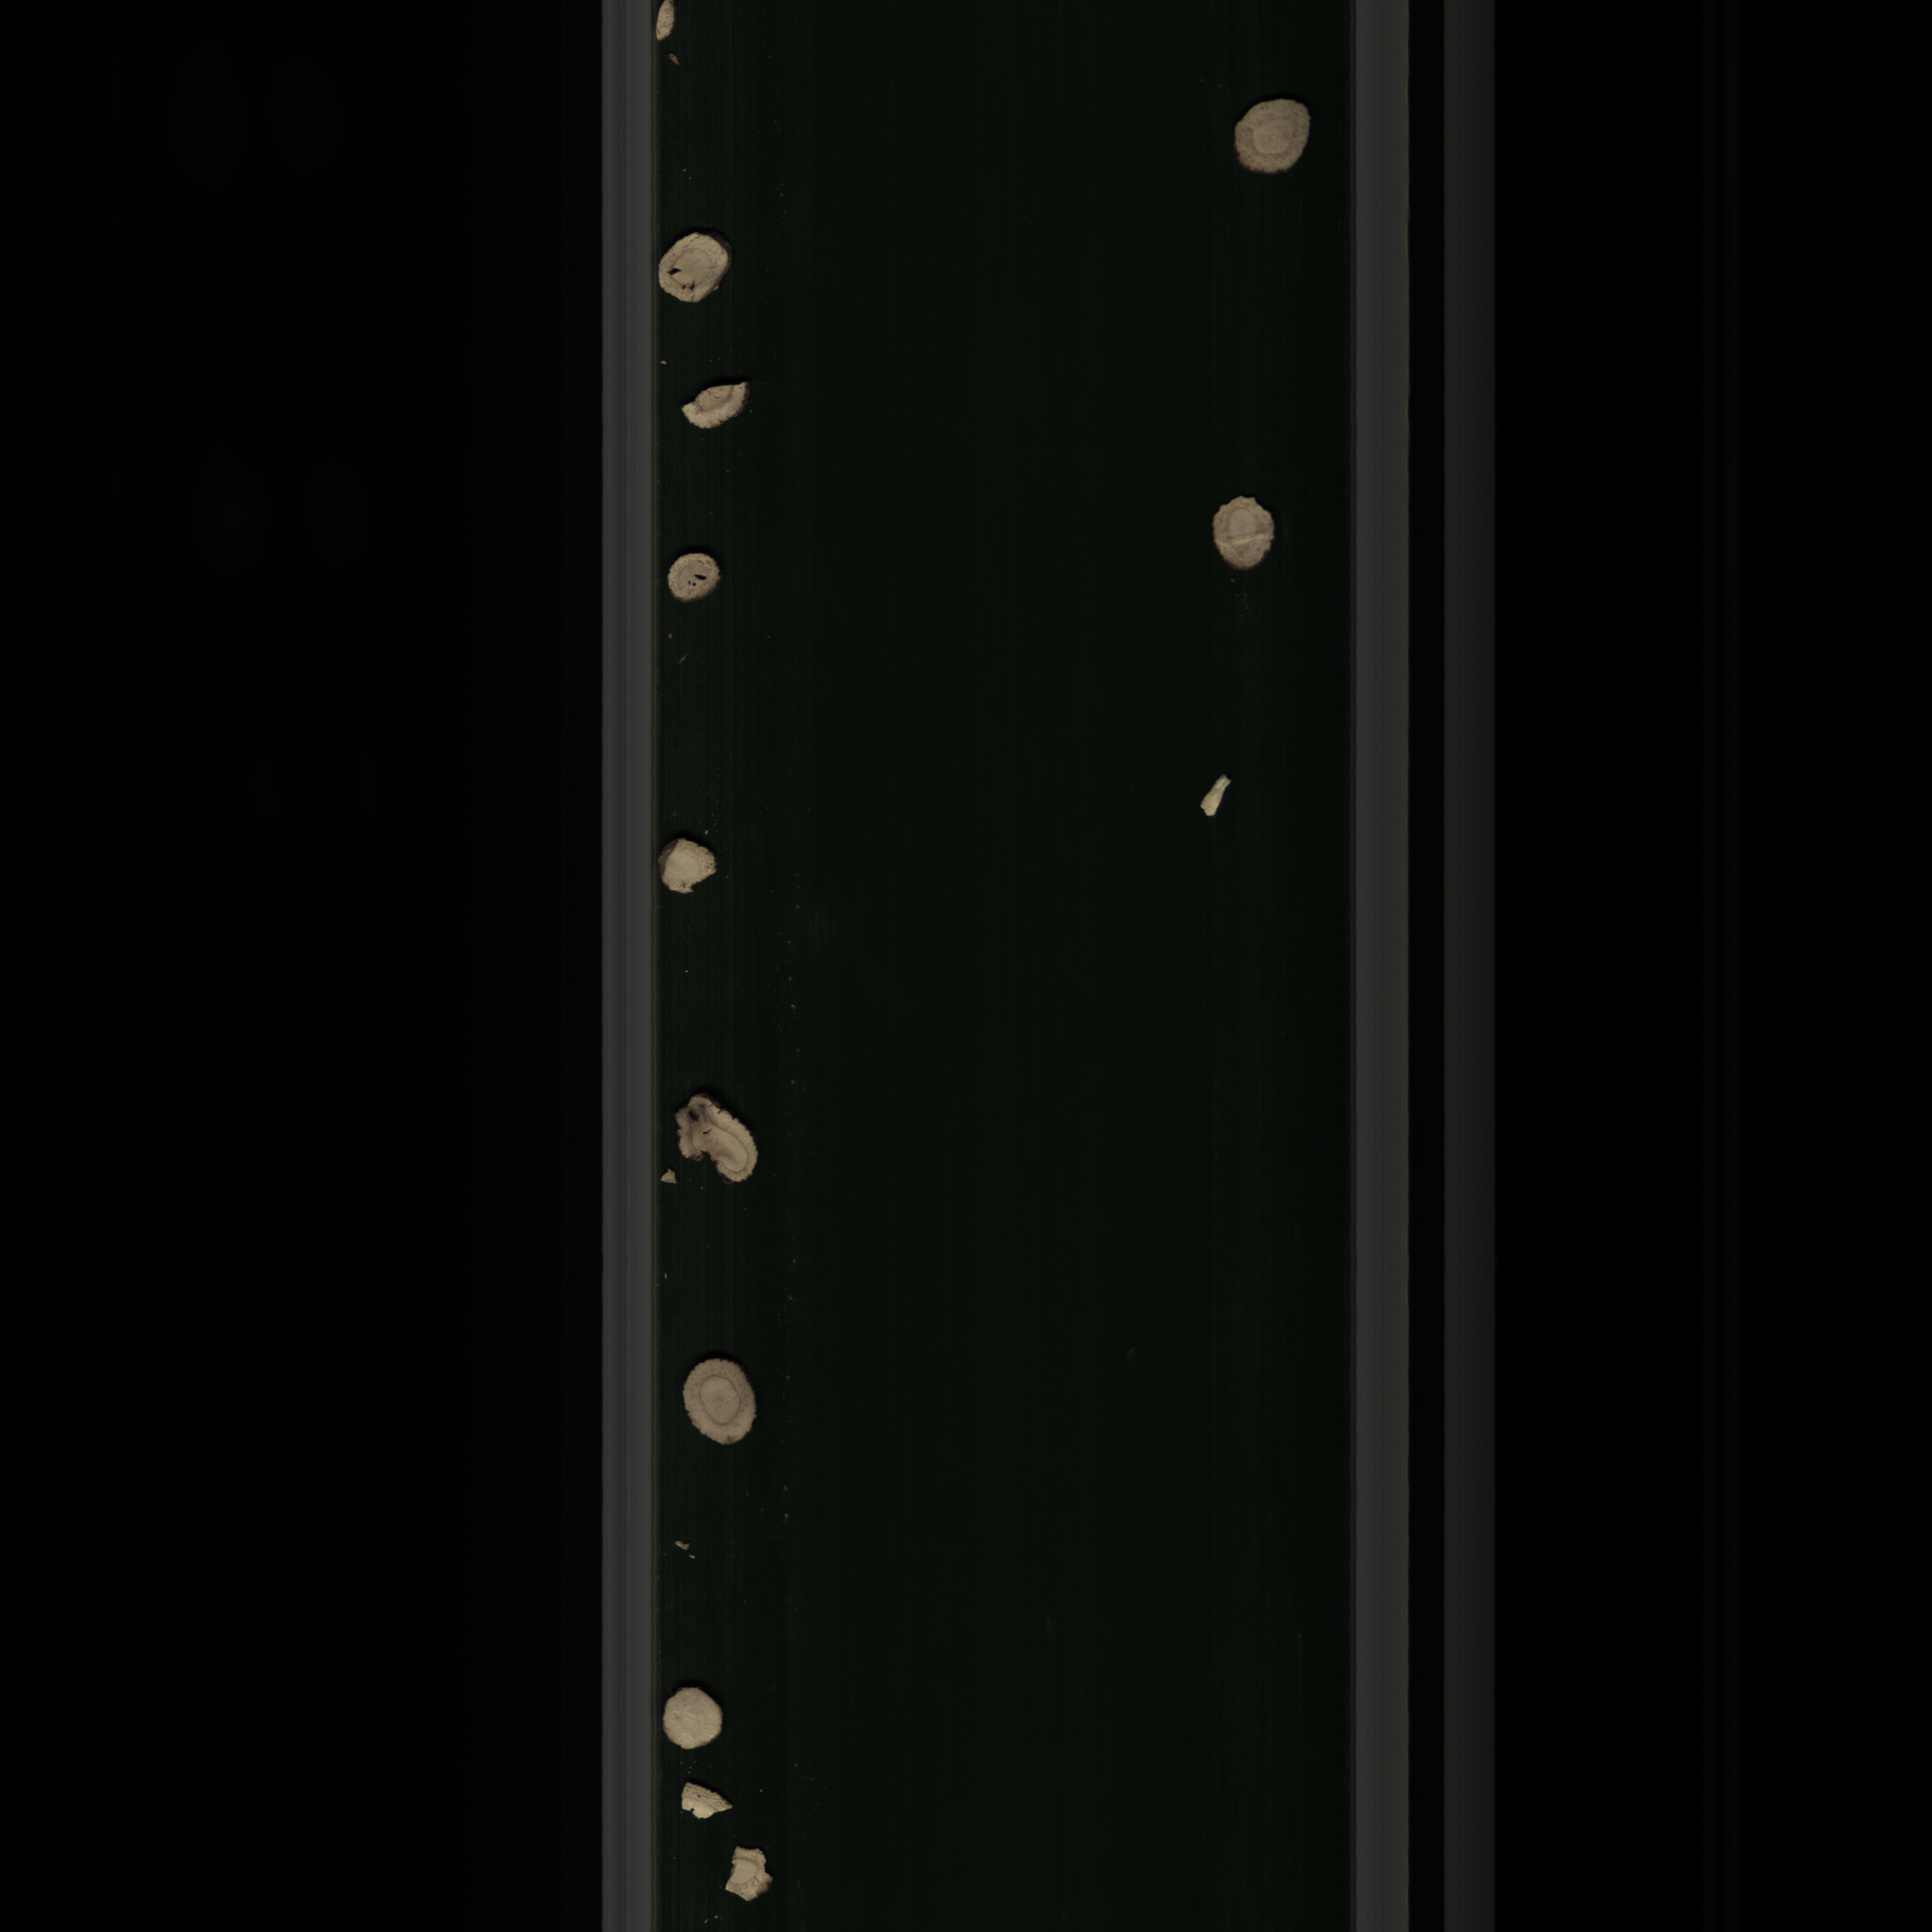debris: (665, 364, 770, 433), (715, 1844, 805, 1918), (649, 832, 725, 906), (674, 1775, 741, 1826)
hole: (655, 223, 732, 310), (663, 550, 729, 609), (1196, 759, 1226, 824)
moldy: (660, 1083, 770, 1200)
